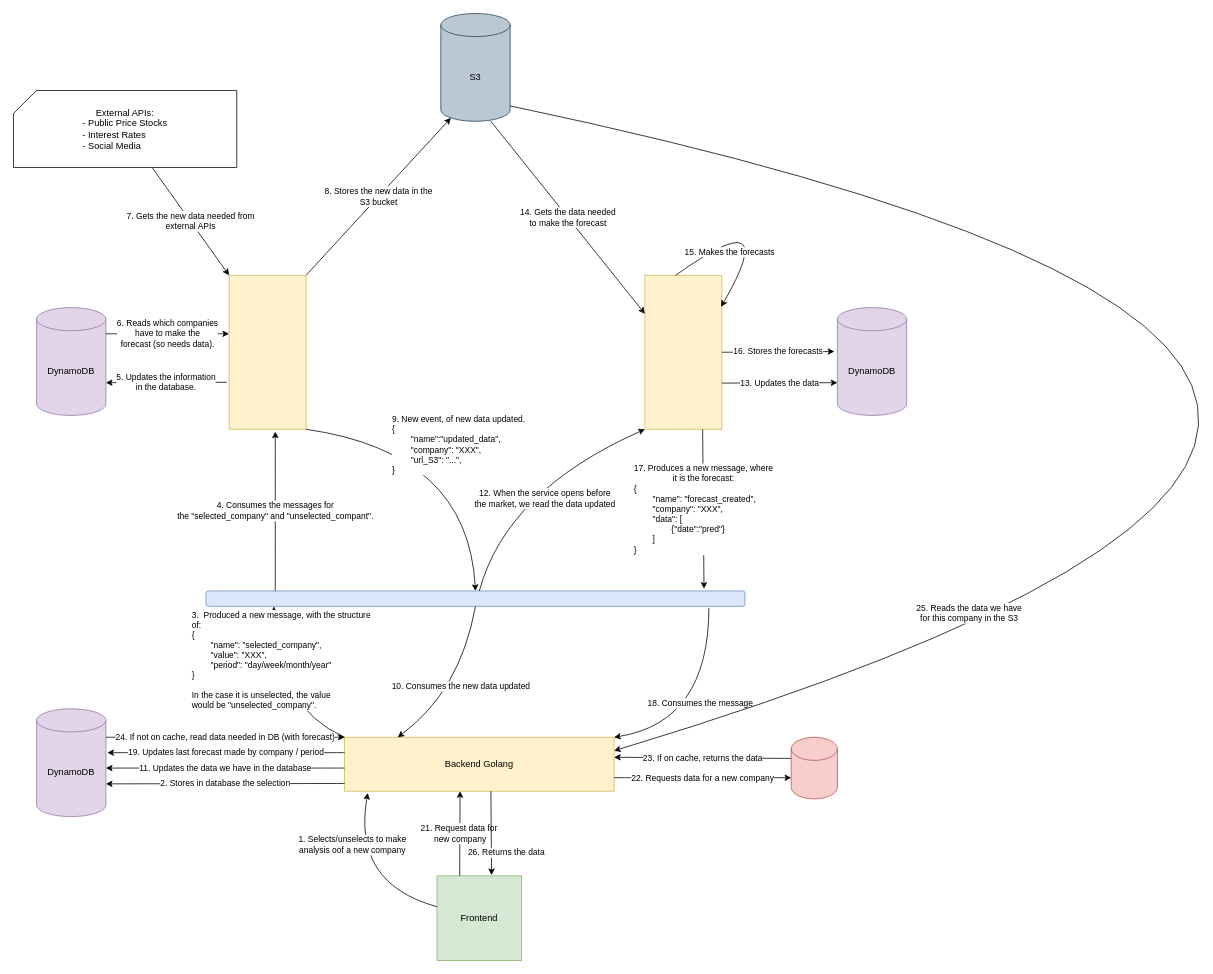
This 1213x974 diagram has some shape labels left out. The shapes that lost their labels are listed below. From the top down, each one's centre as x and y in pixels, then its label:
At pixel 267 352: "Injestion Service".
At pixel 683 352: "Forecasting Service".
At pixel 475 598: "KafKa".
At pixel 813 768: "Redis".
